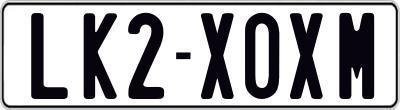0: (242, 11, 278, 102)
2: (125, 10, 161, 97)
K: (83, 12, 116, 99)
L: (30, 11, 71, 97)
M: (338, 12, 374, 100)
X: (198, 13, 236, 102), (288, 10, 322, 100)
